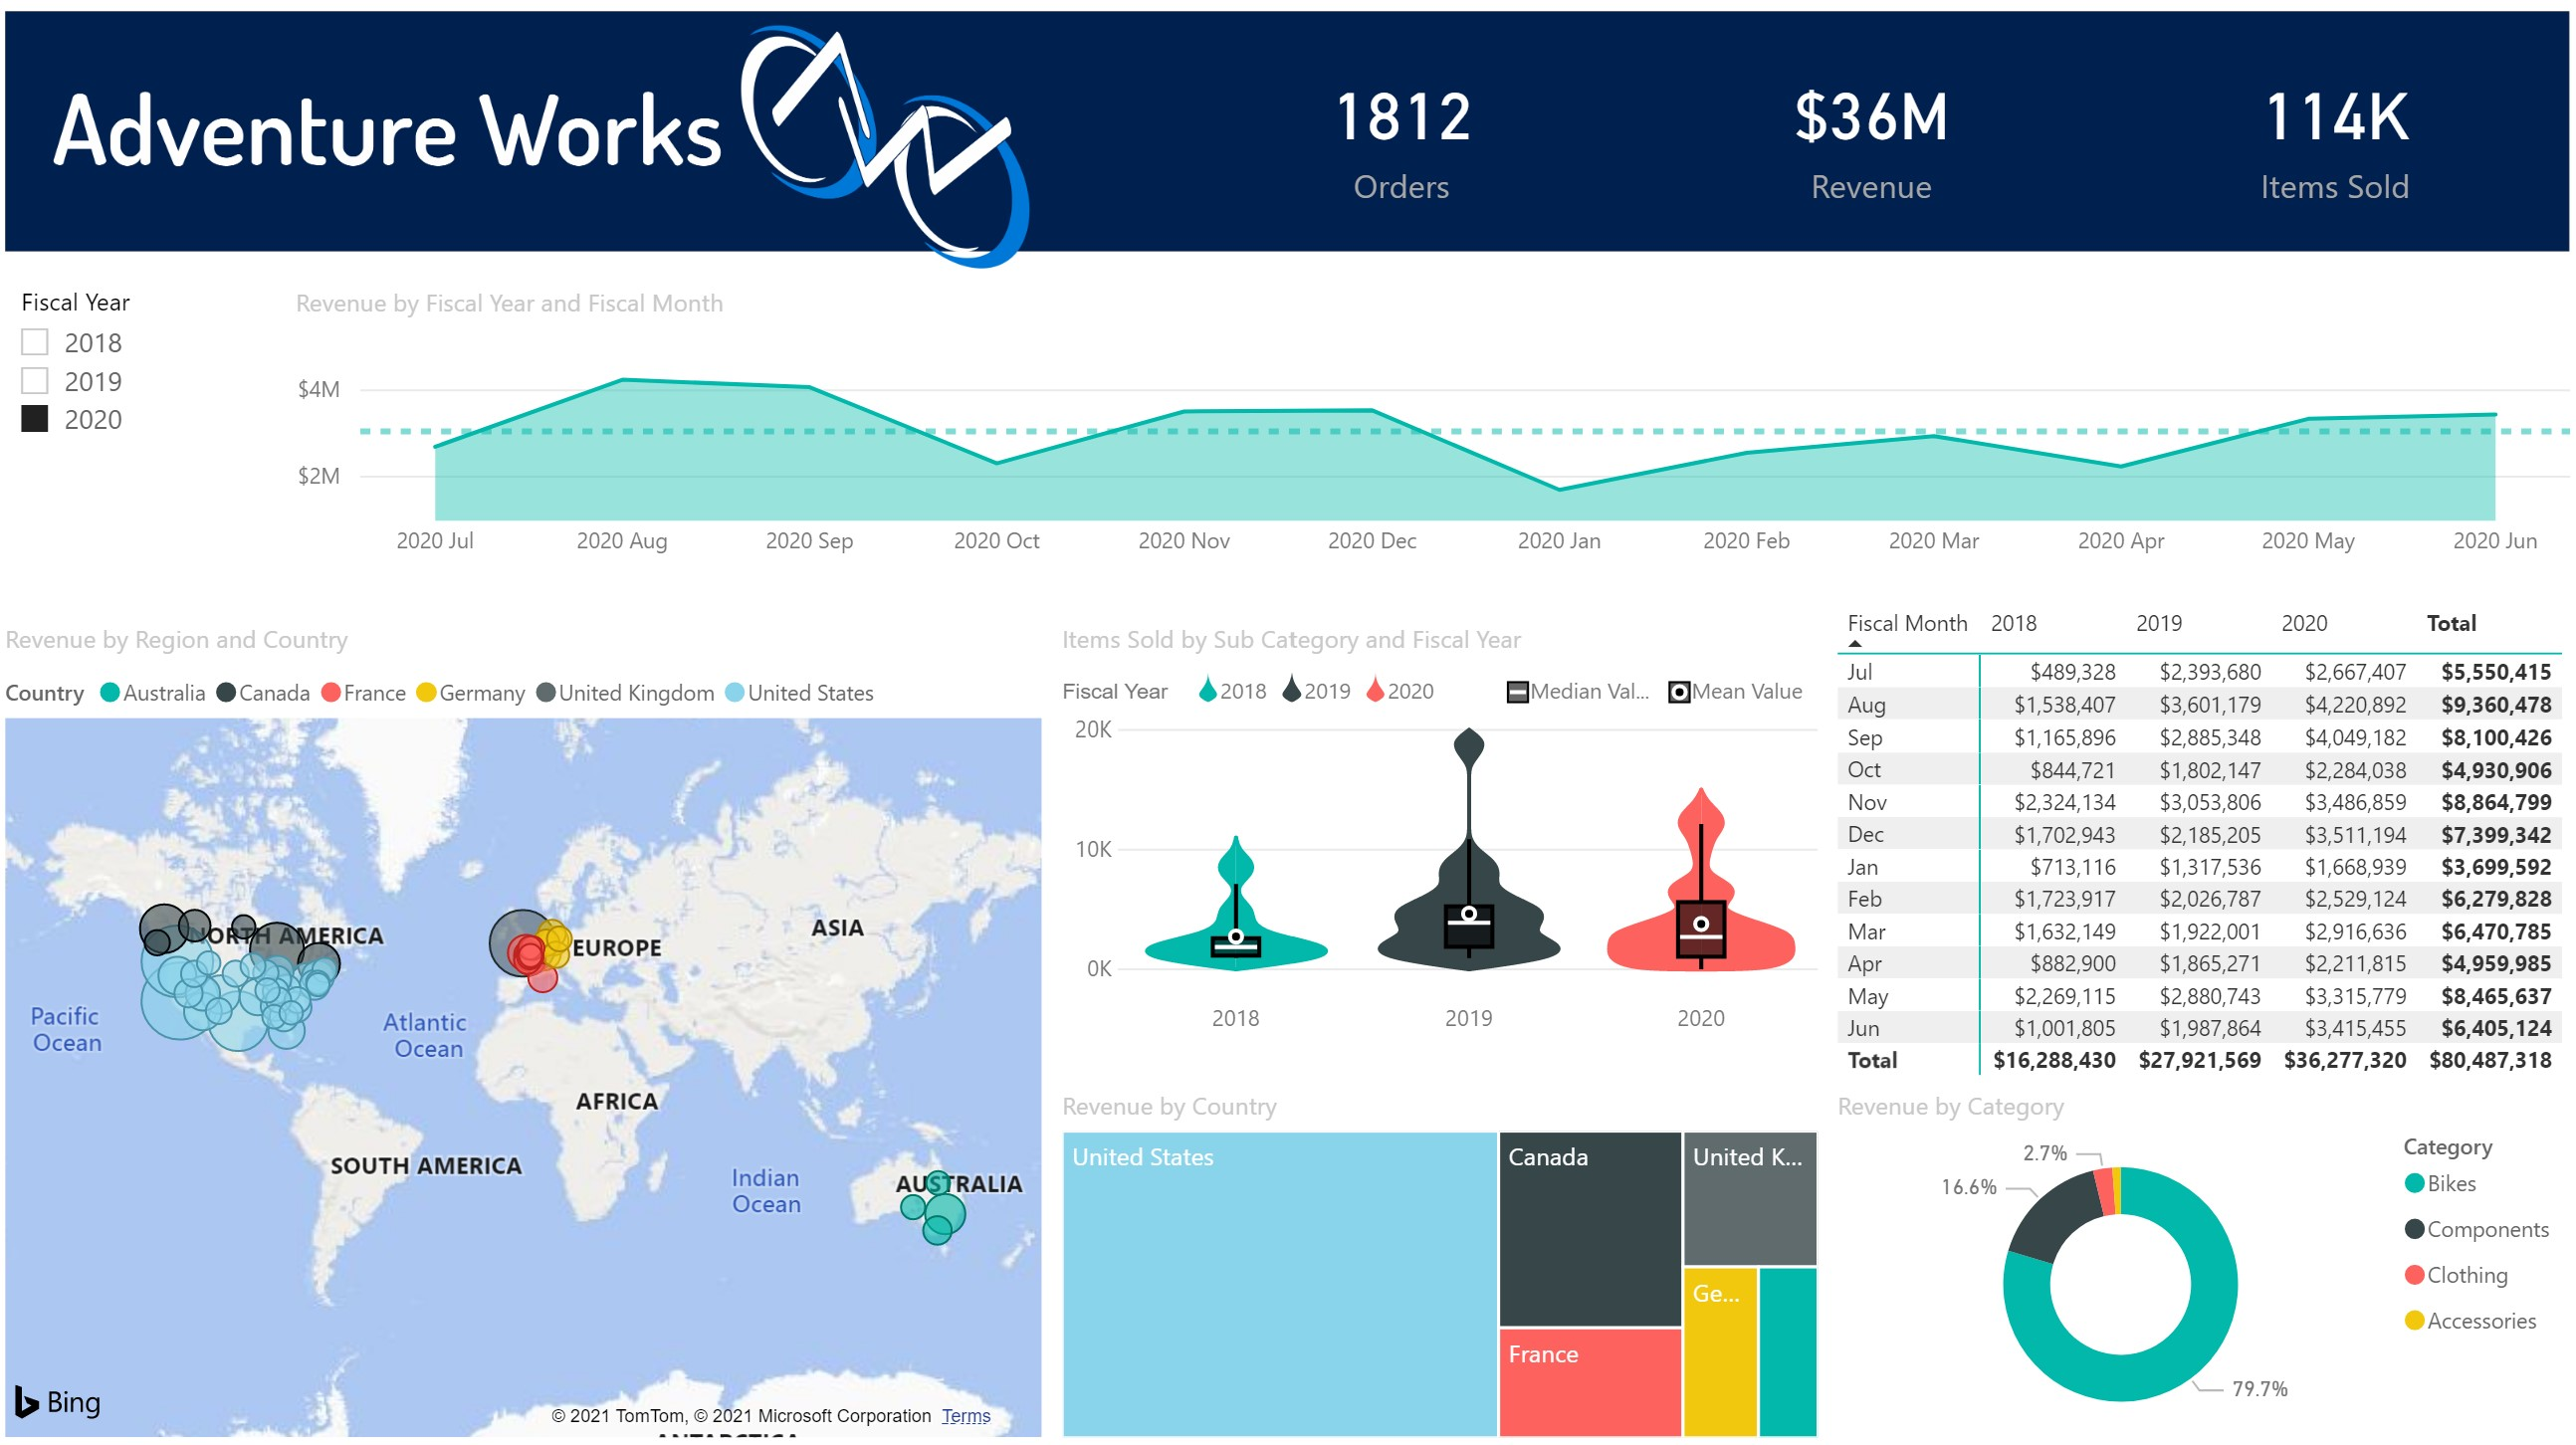

Layout of this report page (visuals, bound fields, positions):
{"tool":"powerbi","page":{"name":"Sales Report","canvas":[1280,720],"ordinal":0},"visuals":[{"type":"map","fields":{"Size":["Order_Items.Revenue"],"Series":["Customer.Country"],"Category":["Customer.Region"]},"box":[0,310.7,523.6,408.4],"z":0},{"type":"treemap","fields":{"Group":["Customer.Country"],"Values":["Order_Items.Revenue"]},"box":[523.6,541.1,384,178],"z":1000},{"type":"areaChart","fields":{"Y":["Order_Items.Revenue"],"Category":["Calendar.Fiscal Date.Fiscal Year","Calendar.Fiscal Date.Fiscal Month","Calendar.Fiscal Date.Day"]},"box":[143.6,143.6,1136.4,143.6],"z":2000},{"type":"pivotTable","fields":{"Values":["Order_Items.Revenue"],"Rows":["Calendar.Fiscal Month"],"Columns":["Calendar.Fiscal Year"]},"box":[907.6,297.9,372.4,243.2],"z":3000},{"type":"image","box":[0,0,1280,143.1],"z":4000},{"type":"card","fields":{"Values":["Order_Items.Orders"]},"box":[594.6,16.3,203.6,102.4],"z":5000},{"type":"card","fields":{"Values":["Order_Items.Revenue"]},"box":[827.3,16.3,203.6,102.4],"z":6000},{"type":"card","fields":{"Values":["Order_Items.Items Sold"]},"box":[1057.7,16.3,203.6,102.4],"z":7000},{"type":"violinPlot4D46EB9EB3A141D9BA2289793175D971","fields":{"sampling":["Products.Sub Category"],"measure":["Order_Items.Items Sold"],"category":["Calendar.Fiscal Year"]},"box":[523.6,310.7,384,214.1],"z":8000},{"type":"donutChart","fields":{"Y":["Order_Items.Revenue"],"Category":["Products.Category"]},"box":[907.6,541.1,372.4,178],"z":9000},{"type":"slicer","fields":{"Values":["Calendar.Fiscal Year"]},"box":[0,137.8,143.6,160],"z":10000}]}

Visuals, with their boxes in screenshot pixels (x1, y1, x2, y2), scaled from the page's 1280x720 canvas onto the 2576x1445 screenshot:
map - Order_Items.Revenue x Customer.Country: left=0, top=624, right=1054, bottom=1443
treemap - Customer.Country x Order_Items.Revenue: left=1054, top=1086, right=1826, bottom=1443
areaChart - Order_Items.Revenue x Calendar.Fiscal Date.Fiscal Year: left=289, top=289, right=2575, bottom=576
pivotTable - Order_Items.Revenue x Calendar.Fiscal Month: left=1826, top=598, right=2575, bottom=1086
image: left=0, top=0, right=2575, bottom=288
card - Order_Items.Orders: left=1196, top=33, right=1607, bottom=238
card - Order_Items.Revenue: left=1665, top=33, right=2074, bottom=238
card - Order_Items.Items Sold: left=2129, top=33, right=2538, bottom=238
violinPlot4D46EB9EB3A141D9BA2289793175D971 - Products.Sub Category x Order_Items.Items Sold: left=1054, top=624, right=1826, bottom=1053
donutChart - Order_Items.Revenue x Products.Category: left=1826, top=1086, right=2575, bottom=1443
slicer - Calendar.Fiscal Year: left=0, top=277, right=289, bottom=598
